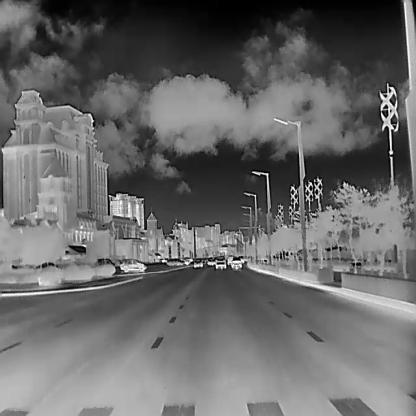car: (92, 256, 115, 275), (118, 258, 146, 272), (165, 256, 185, 266), (214, 254, 225, 268), (230, 255, 241, 269), (192, 256, 202, 266), (206, 256, 215, 265), (236, 254, 244, 262), (226, 254, 232, 264)
